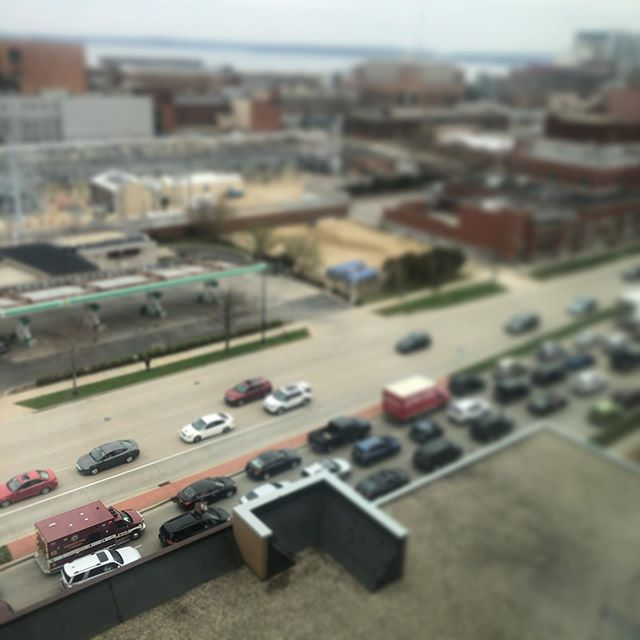ambulance: (34, 499, 147, 572)
car: (55, 547, 146, 592), (72, 432, 148, 481), (154, 502, 234, 545), (1, 462, 55, 507), (180, 408, 240, 445), (216, 375, 276, 412), (258, 379, 318, 416), (180, 469, 240, 506), (244, 443, 304, 480)
street: (1, 282, 590, 529)
